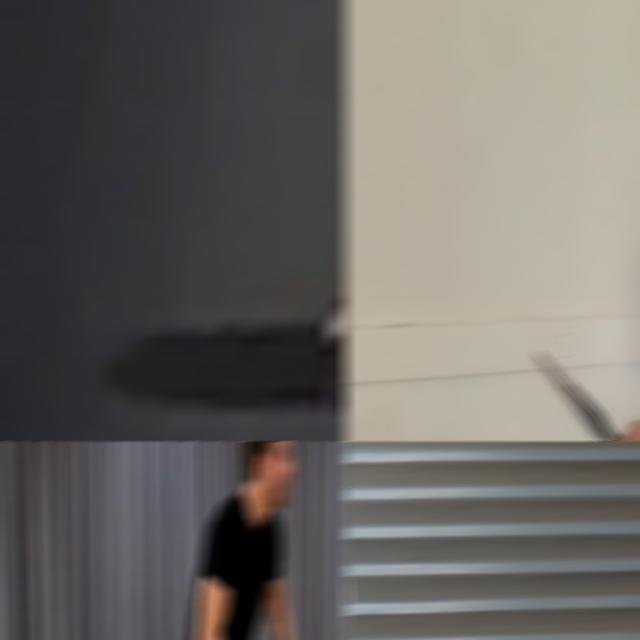Knife: (342, 567, 358, 640)
Knife_Handle: (100, 210, 348, 426), (533, 349, 640, 441)
